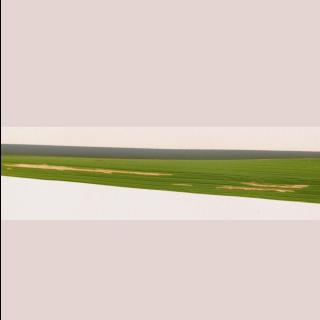Hawar-Daun: (0, 164, 308, 197)
